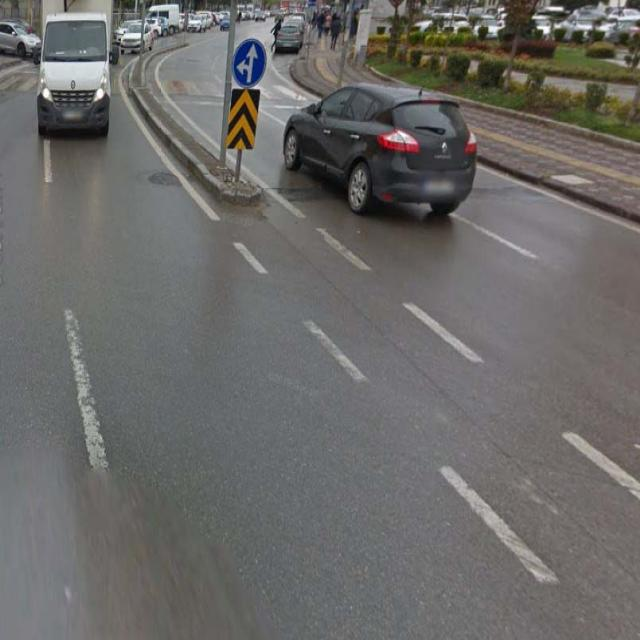ilerisol: (231, 35, 264, 88)
